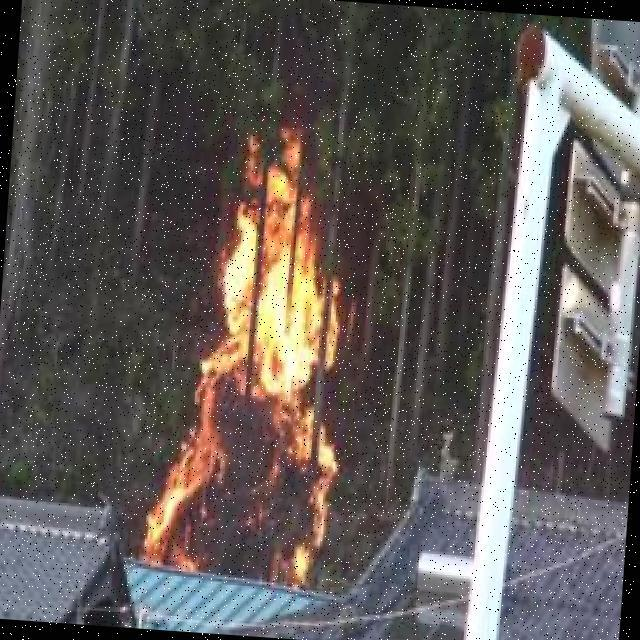Fire: (145, 137, 348, 581)
